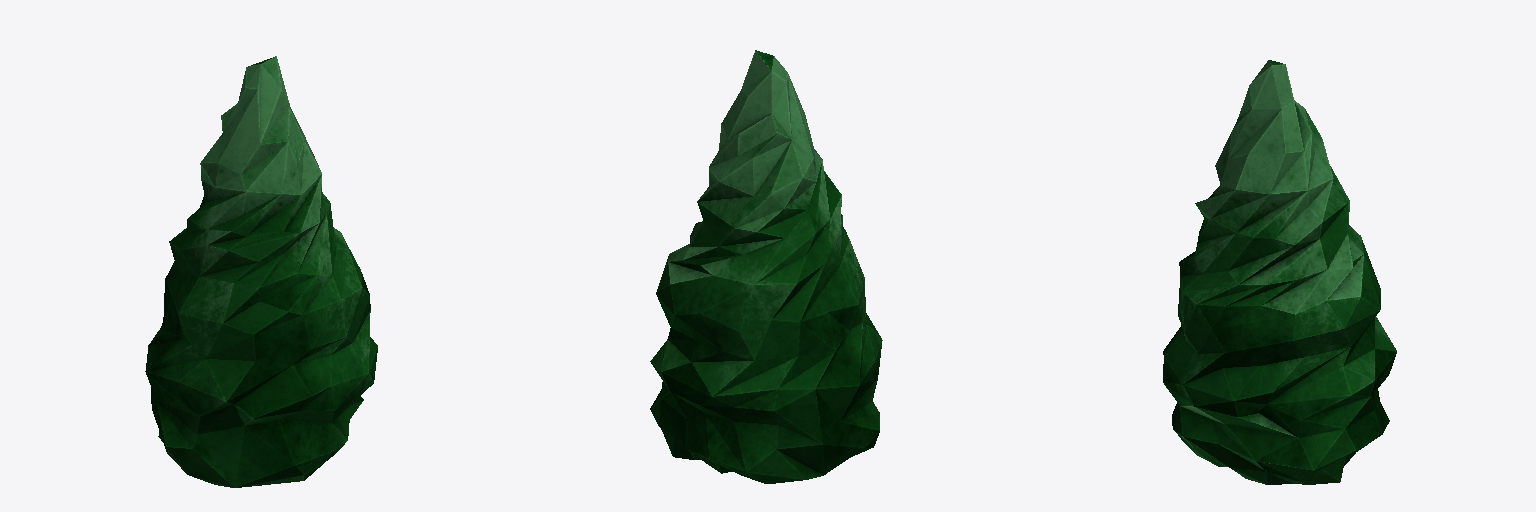
3 renders of one model, left to right at view 1: azimuth 30°, elevation 25°; view 2: azimuth 150°, elevation 25°; view 3: azimuth 270°, elevation 25°, orthographic.
Visible parts, largest first — view 1: FirTree_mesh; view 2: FirTree_mesh; view 3: FirTree_mesh.
Boxes of the visible parts, x1,y1,x2,y2 form: FirTree_mesh: [145, 56, 377, 487]; FirTree_mesh: [650, 50, 882, 483]; FirTree_mesh: [1163, 60, 1396, 484].
Size of the model in its own units: 8.24 by 15.48 by 8.29.
1 materials, 1 textured.